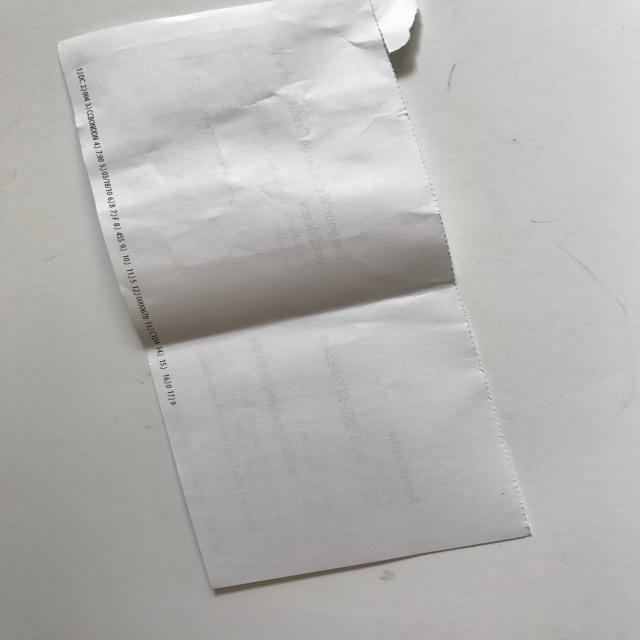paper: (43, 0, 556, 609)
